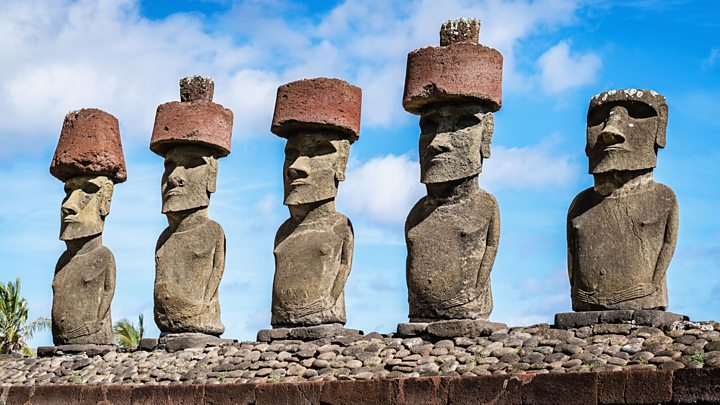person-like: (395, 17, 508, 327), (555, 83, 686, 316), (267, 72, 360, 329), (148, 79, 236, 338), (46, 109, 121, 343)
